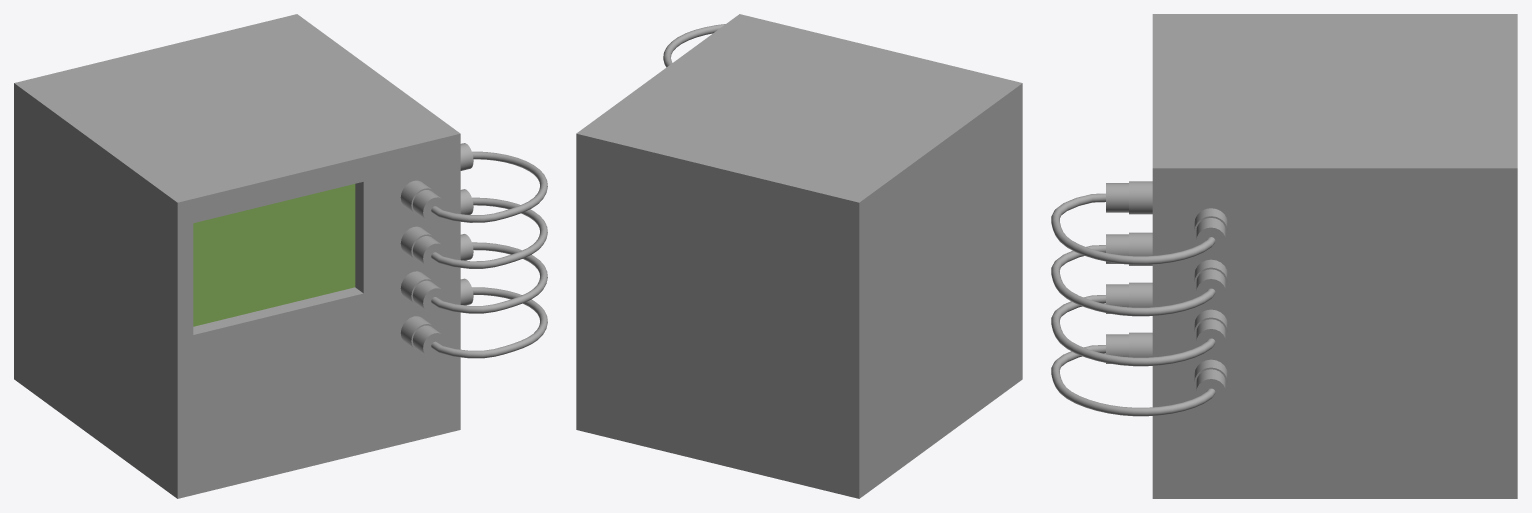
The model's file is ElectricBox.fbx.
3 views of the same model, side by side, from view 1: azimuth 30°, elevation 25°; view 2: azimuth 150°, elevation 25°; view 3: azimuth 270°, elevation 25° (orthographic). The views are drawn at different scales.
Parts seen in each view (by area): view 1: BoxProp; view 2: BoxProp; view 3: BoxProp.
Part boxes in pixels (box(x1,y1,x2,y2)): BoxProp: box(14, 14, 547, 498); BoxProp: box(576, 14, 1022, 498); BoxProp: box(1051, 14, 1517, 498).
Size of the model in its own units: 5.74 by 4.58 by 5.85.
